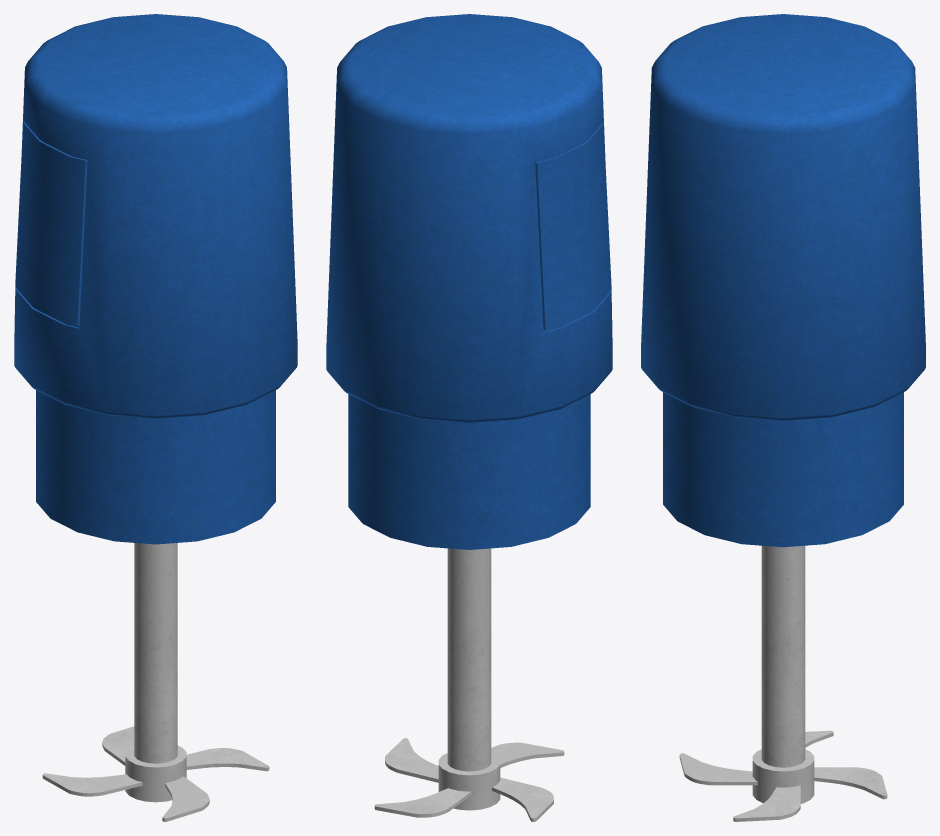
Rendered from SM_研磨机上.FBX.
The picture shows the model from 3 angles, left to right: view 1: azimuth 30°, elevation 25°; view 2: azimuth 150°, elevation 25°; view 3: azimuth 270°, elevation 25°; orthographic projection.
Visible parts, largest first — view 1: SM_研磨机上; view 2: SM_研磨机上; view 3: SM_研磨机上.
Boxes of the visible parts, bbox=[...] form: SM_研磨机上: bbox=[14, 14, 297, 821]; SM_研磨机上: bbox=[326, 14, 612, 821]; SM_研磨机上: bbox=[641, 14, 925, 821].
Size of the model in its own units: 63.17 by 176 by 62.21.
